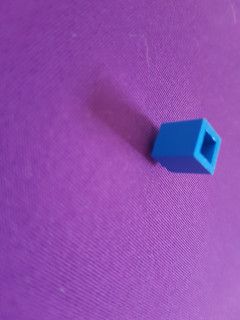1x1 blue: (149, 117, 222, 176)
